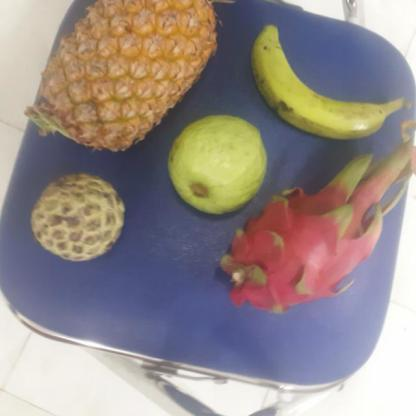annona: (30, 173, 131, 261)
guava: (166, 118, 272, 218)
pineapple: (37, 0, 219, 144)
pitaya: (218, 186, 382, 314)
